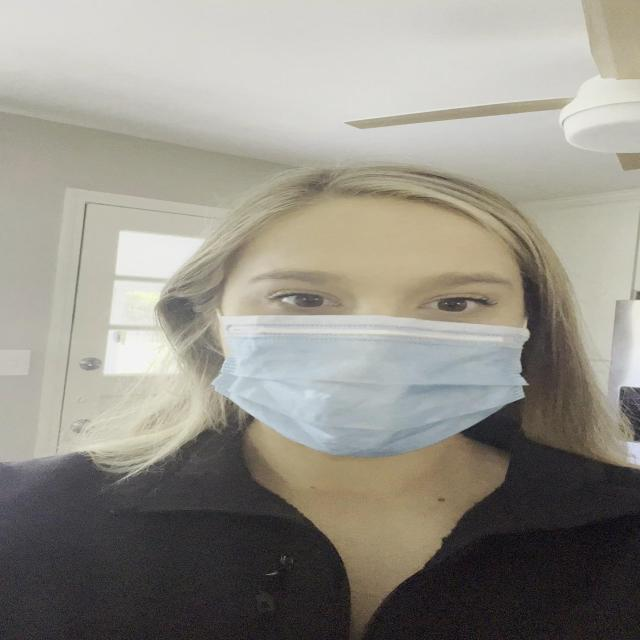no-helmet: (182, 184, 564, 471)
